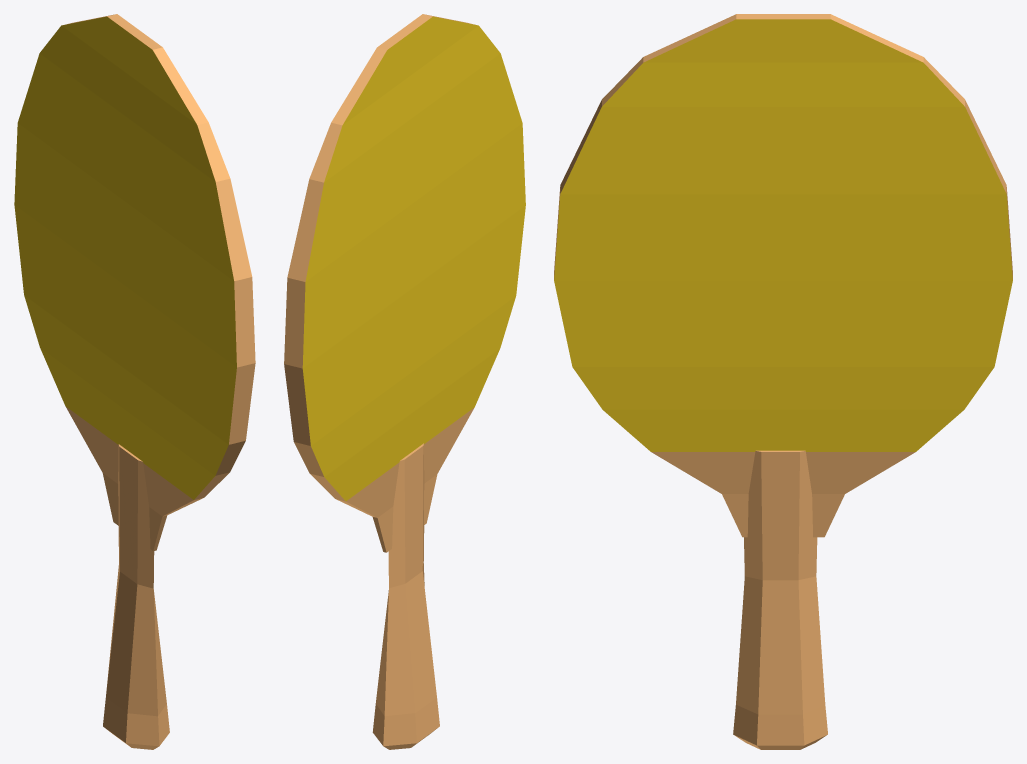
File: pingpongpaddle-yellow.fbx
3 views of the same model, side by side, from view 1: azimuth 30°, elevation 25°; view 2: azimuth 150°, elevation 25°; view 3: azimuth 270°, elevation 25° (orthographic). The views are drawn at different scales.
Parts seen in each view (by area): view 1: Cube.002; view 2: Cube.002; view 3: Cube.002.
Boxes of the visible parts, x1,y1,x2,y2 form: Cube.002: [14, 14, 255, 749]; Cube.002: [284, 14, 525, 749]; Cube.002: [554, 14, 1012, 749].
Size of the model in its own units: 40.78 by 623 by 357.
